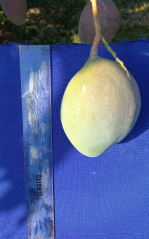Mango-sano: (60, 54, 140, 156)
